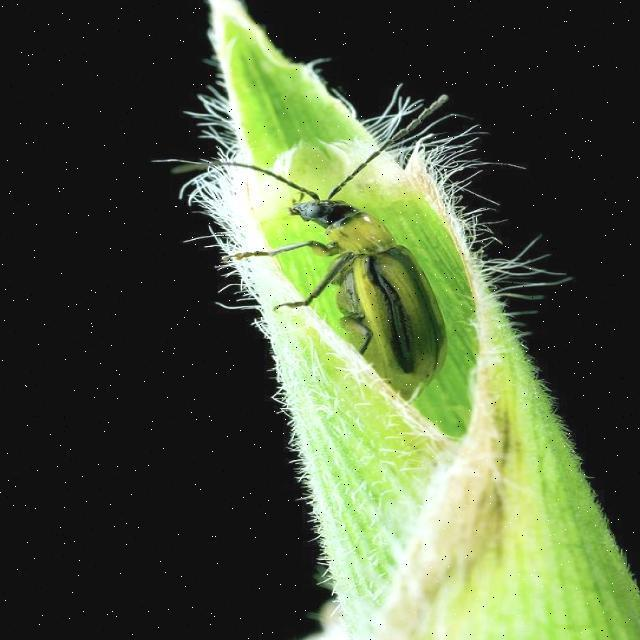trips: (172, 93, 446, 400)
